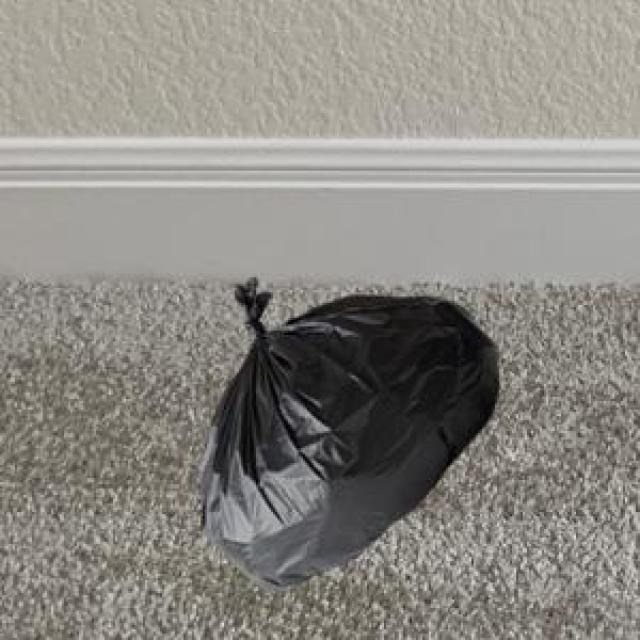miscellaneous trash: (194, 273, 495, 587)
